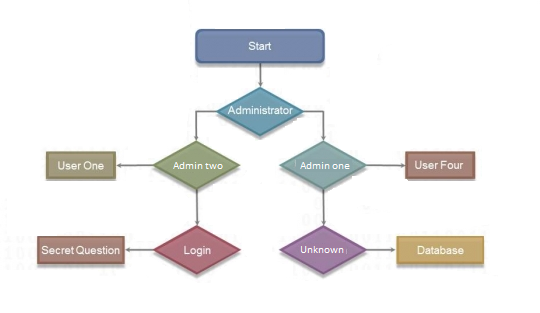arrow: (192, 109, 221, 142), (300, 109, 327, 142), (116, 159, 156, 168), (361, 161, 405, 169), (194, 188, 201, 226), (122, 246, 155, 253), (364, 246, 396, 253), (255, 63, 264, 87), (321, 188, 325, 226)
decision: (215, 84, 305, 138), (277, 137, 368, 190), (275, 224, 367, 275), (151, 139, 244, 189), (152, 225, 241, 276)
process: (192, 26, 327, 65), (394, 234, 486, 265), (34, 234, 125, 265), (42, 149, 116, 181), (404, 149, 477, 181)
text: (39, 243, 119, 256), (225, 103, 293, 114), (412, 158, 466, 170), (171, 159, 224, 171), (297, 159, 349, 171), (55, 159, 105, 171), (414, 244, 465, 255), (297, 244, 344, 255), (181, 244, 211, 257), (246, 38, 272, 51)
